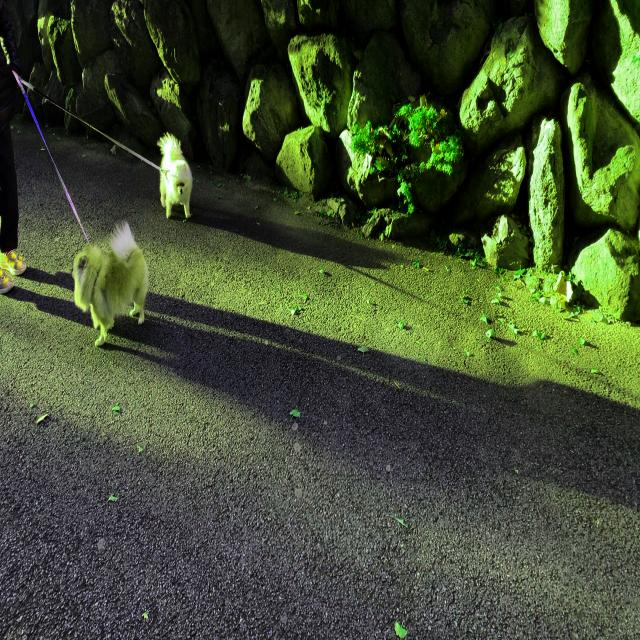Leashed_Dog: (1, 38, 149, 348), (0, 36, 193, 221)
